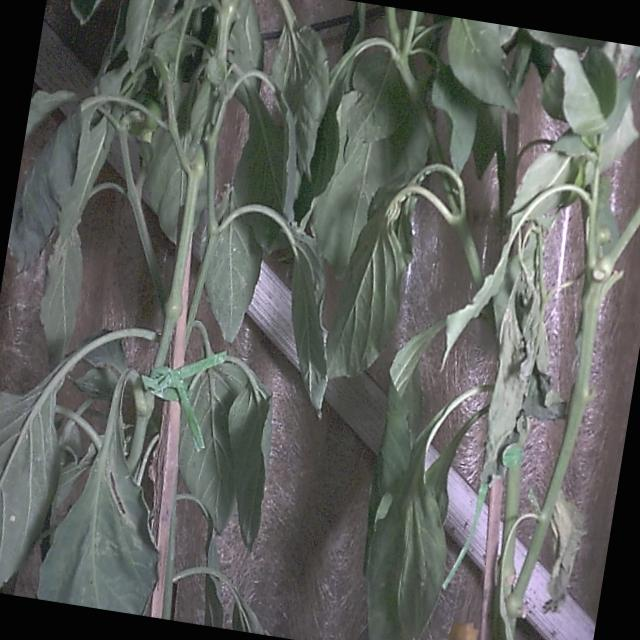Leaf: (38, 391, 157, 612), (326, 206, 412, 377), (0, 382, 58, 587), (291, 230, 327, 412), (447, 18, 516, 111), (40, 228, 82, 365)
